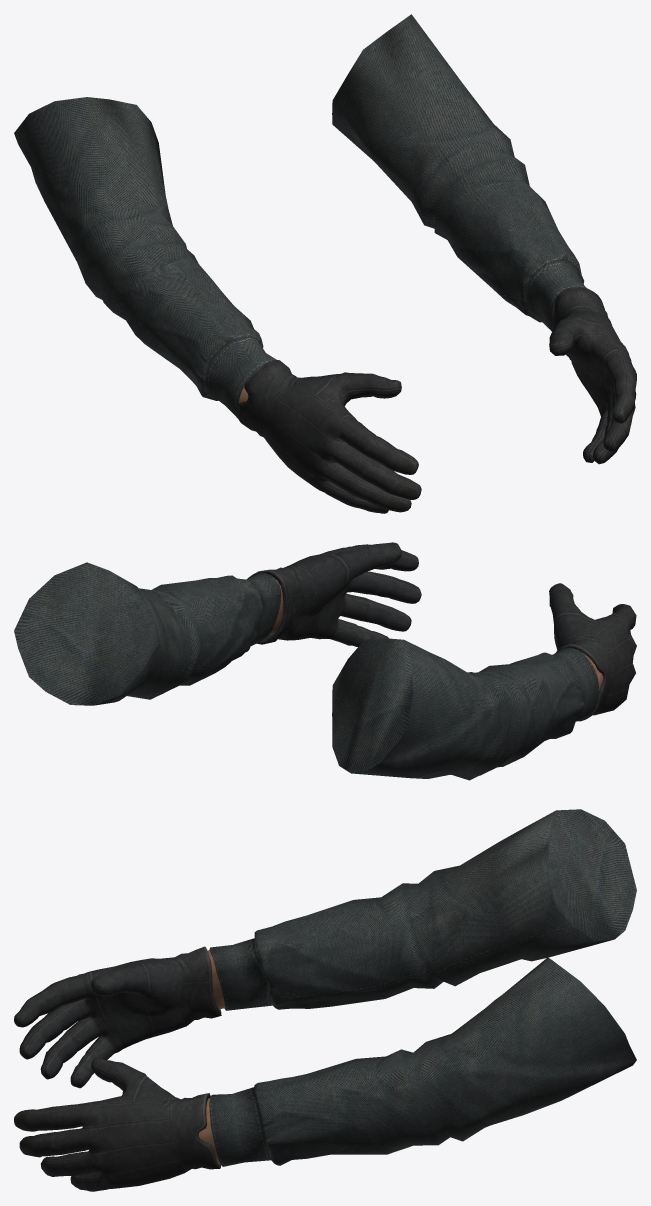
Rendered from arms.glb.
3 views of the same model, one above another, from view 1: azimuth 30°, elevation 25°; view 2: azimuth 150°, elevation 25°; view 3: azimuth 270°, elevation 25° (orthographic).
Parts seen in each view (by area): view 1: mesh_Mat_0; view 2: mesh_Mat_0; view 3: mesh_Mat_0.
Part boxes in pixels (x1,y1,x2,y2): mesh_Mat_0: (14, 14, 636, 513); mesh_Mat_0: (14, 542, 636, 780); mesh_Mat_0: (14, 809, 636, 1191).
Size of the model in its own units: 54.81 by 31.43 by 70.97.
Materials: 1 (1 with a texture image).
